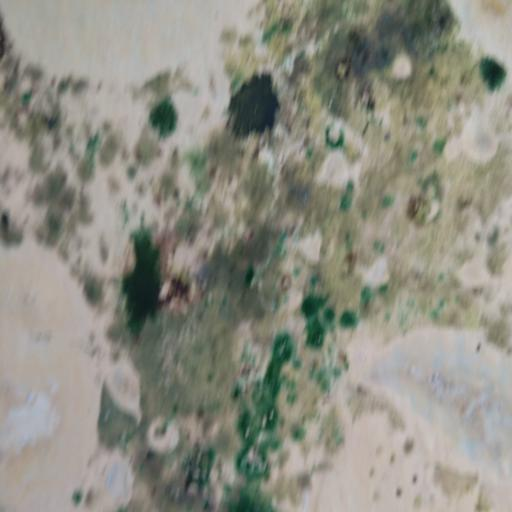algae: (98, 2, 512, 512)
